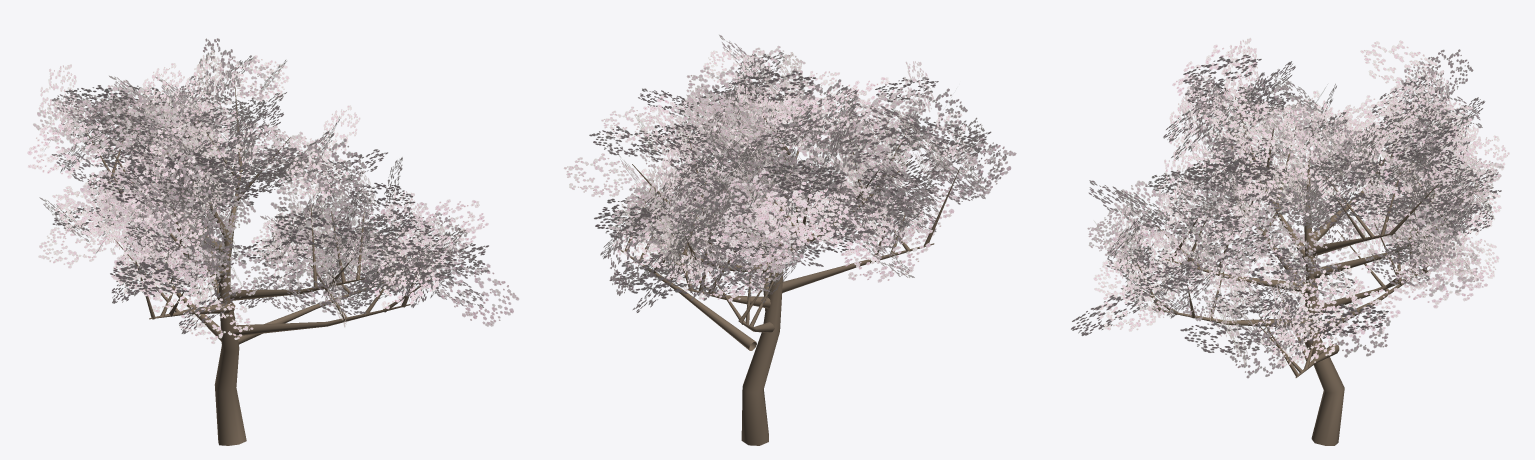
Rendered from sakura-19-high.glb.
3 views of the same model, side by side, from view 1: azimuth 30°, elevation 25°; view 2: azimuth 150°, elevation 25°; view 3: azimuth 270°, elevation 25° (orthographic). The views are drawn at different scales.
Parts seen in each view (by area): view 1: LeafCards, Wood; view 2: LeafCards, Wood; view 3: LeafCards, Wood.
Boxes of the visible parts, x1,y1,x2,y2 form: LeafCards: (27, 38, 519, 343); Wood: (86, 88, 431, 445); LeafCards: (564, 35, 1016, 312); Wood: (618, 101, 959, 445); LeafCards: (1071, 38, 1509, 378); Wood: (1137, 97, 1478, 445).
Size of the model in its own units: 9.11 by 8.65 by 10.02.
2 materials, 1 textured.
